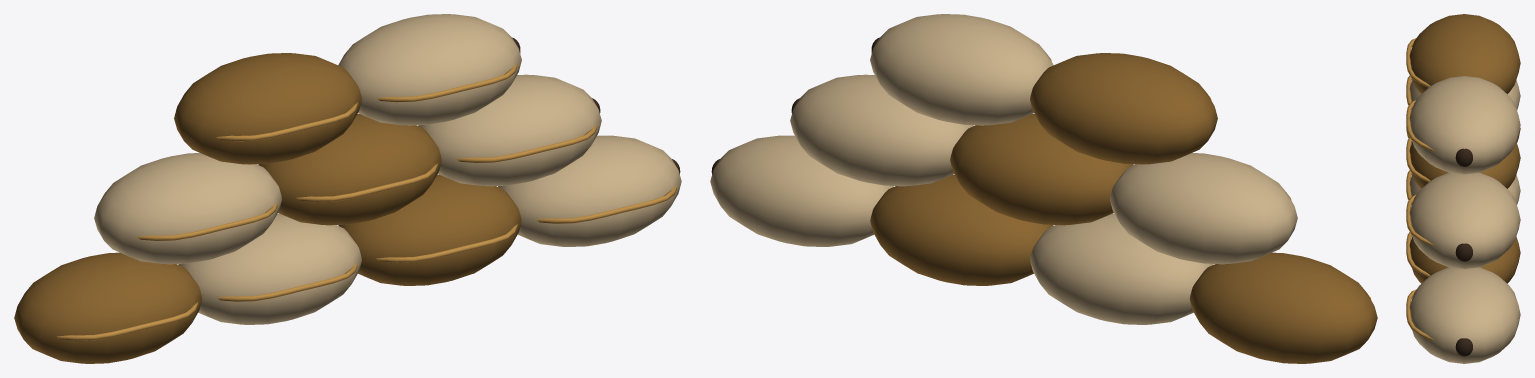
Rendered from mia-sandbags.glb.
3 renders of one model, left to right at view 1: azimuth 30°, elevation 25°; view 2: azimuth 150°, elevation 25°; view 3: azimuth 270°, elevation 25°, orthographic. The views are drawn at different scales.
Parts seen in each view (by area): view 1: Body_canvas, Body_hay-dark, Body_hay-mid; view 2: Body_canvas, Body_hay-dark; view 3: Body_canvas, Body_hay-dark, Body_hay-mid, Body_grain.
Part boxes in pixels (x1,y1,x2,y2): Body_canvas: [94, 14, 681, 324]; Body_hay-dark: [14, 53, 521, 363]; Body_hay-mid: [56, 64, 677, 340]; Body_canvas: [710, 14, 1297, 324]; Body_hay-dark: [870, 53, 1377, 363]; Body_canvas: [1409, 76, 1520, 363]; Body_hay-dark: [1409, 14, 1520, 283]; Body_hay-mid: [1406, 38, 1433, 340]; Body_grain: [1455, 148, 1472, 356].
Bounding box in the file's own units: 2.06 × 0.75 × 0.3902.
